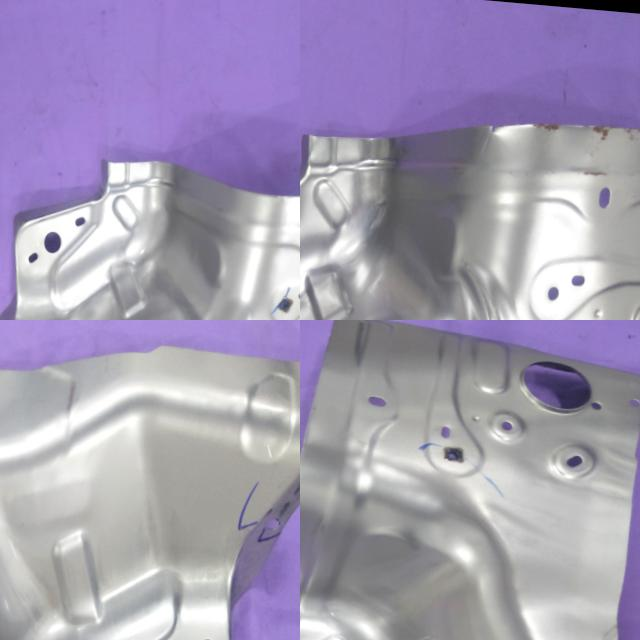Healthy: (300, 320, 640, 640), (0, 320, 300, 640), (0, 140, 300, 320)
rust: (554, 148, 626, 198), (583, 106, 640, 164), (510, 106, 570, 146)
